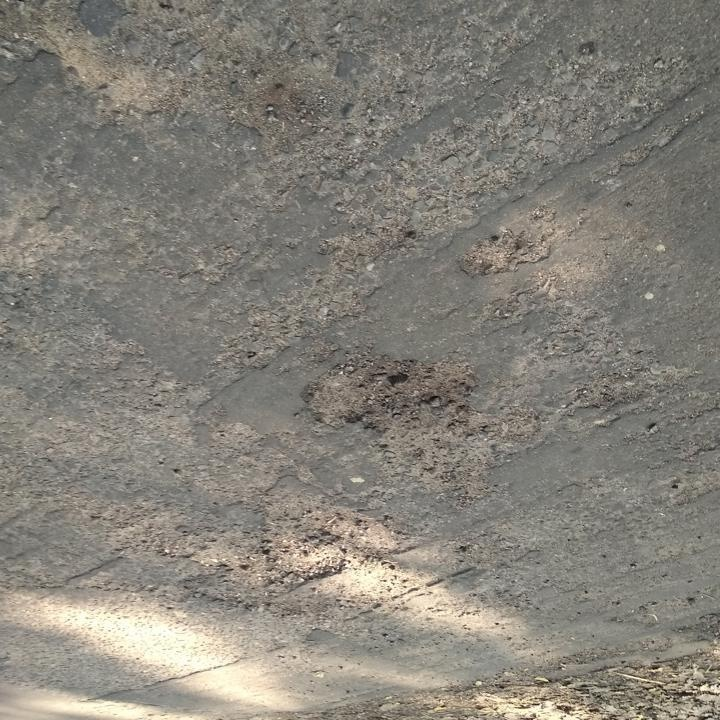pothole: (298, 344, 482, 436), (256, 497, 402, 585), (454, 225, 552, 280)
